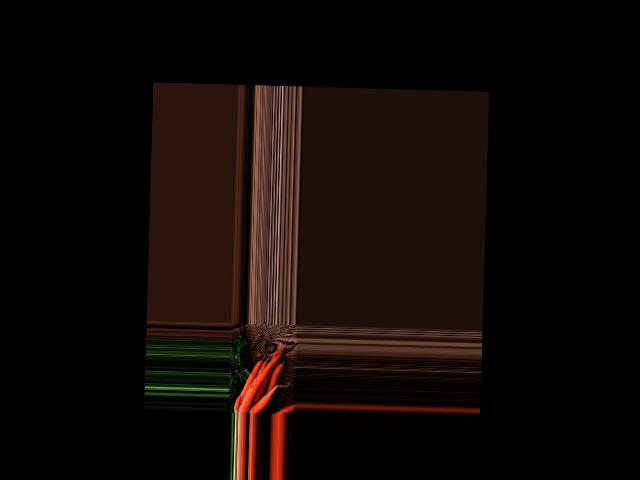carrot: (250, 385, 277, 413)
